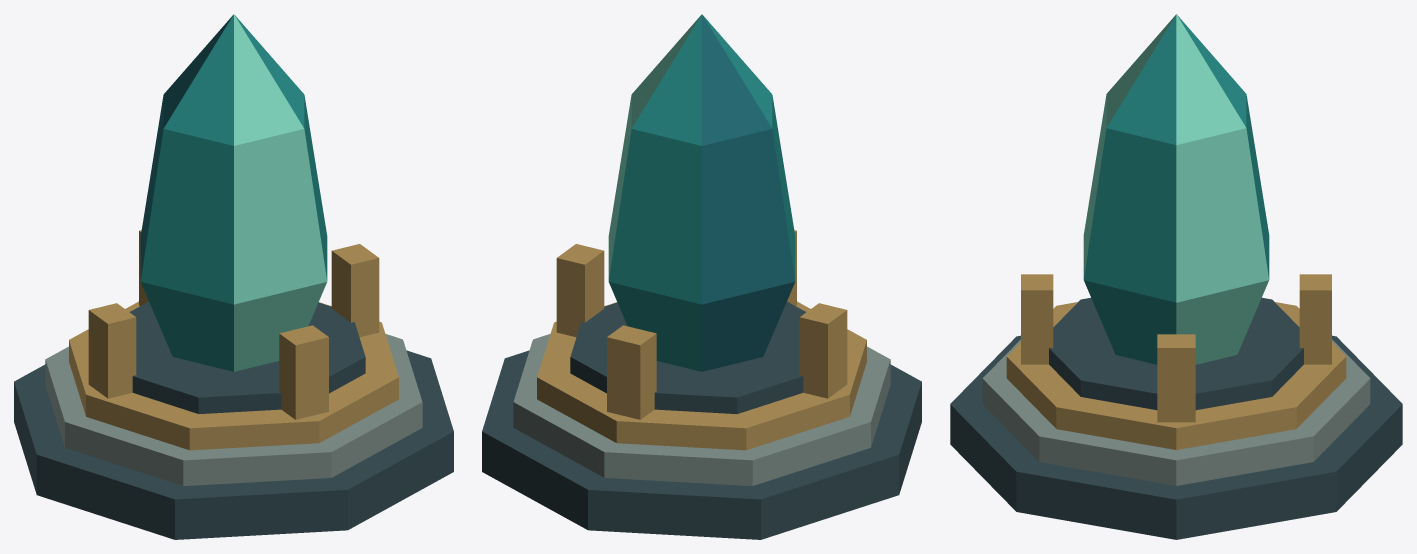
File: frontier-relic.glb
The picture shows the model from 3 angles, left to right: view 1: azimuth 30°, elevation 25°; view 2: azimuth 150°, elevation 25°; view 3: azimuth 270°, elevation 25°; orthographic projection.
Visible parts, largest first — view 1: surface-relic-base, surface-relic-core; view 2: surface-relic-base, surface-relic-core; view 3: surface-relic-base, surface-relic-core.
Boxes of the visible parts, left/top/right/bottom form: surface-relic-base: left=14, top=230, right=453, bottom=539; surface-relic-core: left=140, top=14, right=327, bottom=371; surface-relic-base: left=482, top=230, right=921, bottom=539; surface-relic-core: left=608, top=14, right=795, bottom=371; surface-relic-base: left=950, top=274, right=1402, bottom=539; surface-relic-core: left=1083, top=14, right=1269, bottom=364.
Size of the model in its own units: 2.24 by 2.35 by 2.24.
